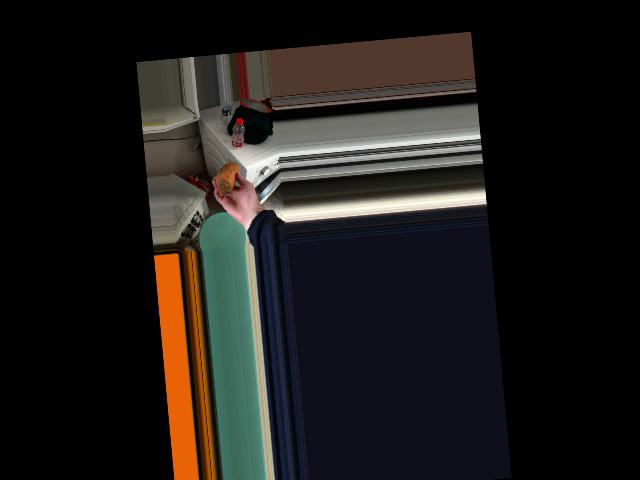sweet_potato: (214, 161, 239, 192)
